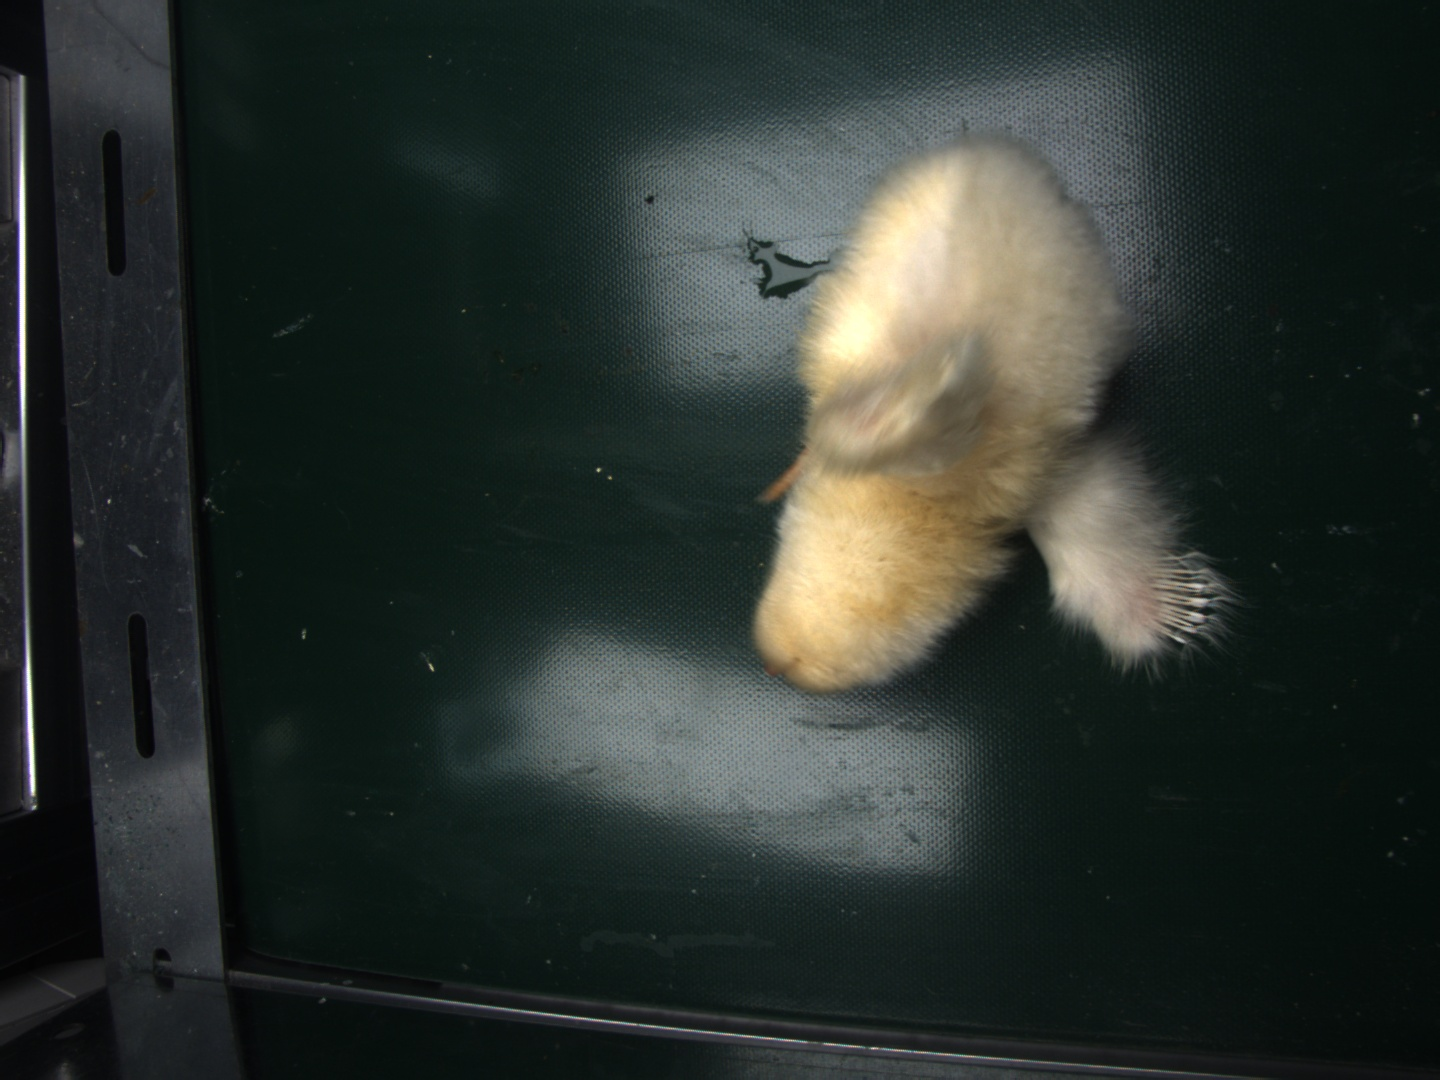male: (1151, 550, 1215, 641)
